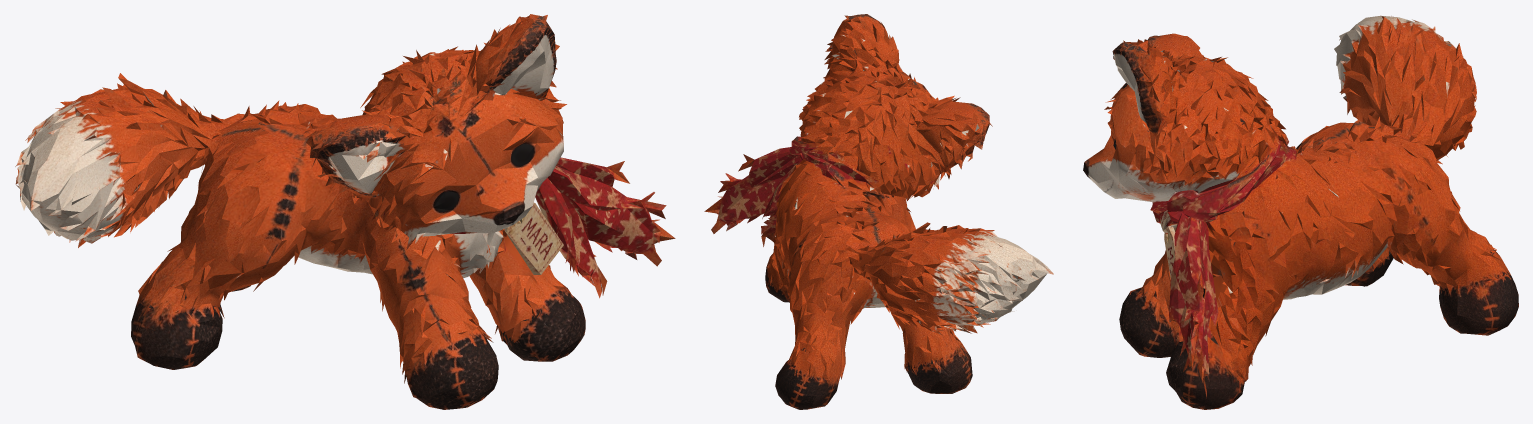
Rendered from mara.glb.
3 renders of one model, left to right at view 1: azimuth 30°, elevation 25°; view 2: azimuth 150°, elevation 25°; view 3: azimuth 270°, elevation 25°, orthographic. The views are drawn at different scales.
Visible parts, largest first — view 1: output_unwrapped; view 2: output_unwrapped; view 3: output_unwrapped.
Boxes of the visible parts, left/top/right/bottom form: output_unwrapped: left=15, top=14, right=675, bottom=409; output_unwrapped: left=704, top=14, right=1053, bottom=409; output_unwrapped: left=1083, top=15, right=1518, bottom=409.
Size of the model in its own units: 1.89 by 1.19 by 1.4.
Materials: 1 (1 with a texture image).
